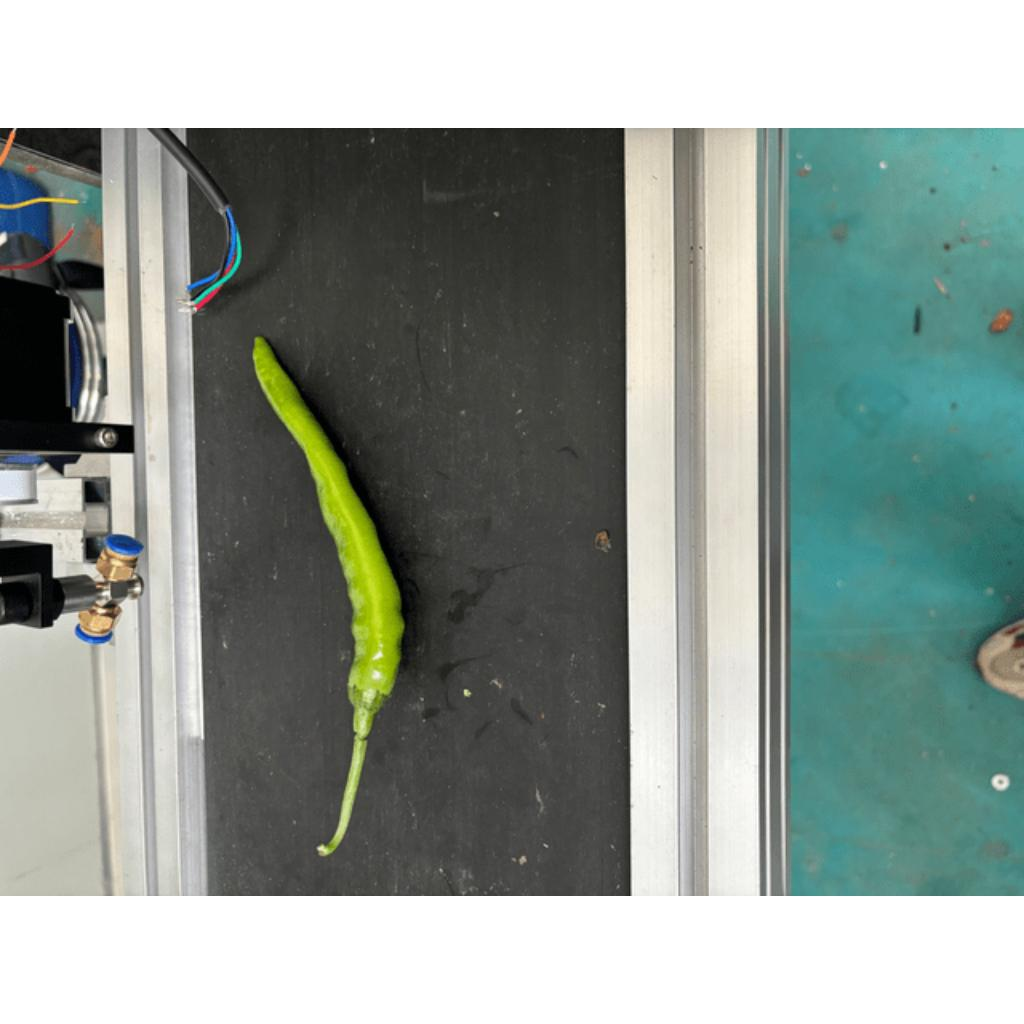chili: (252, 332, 406, 717)
